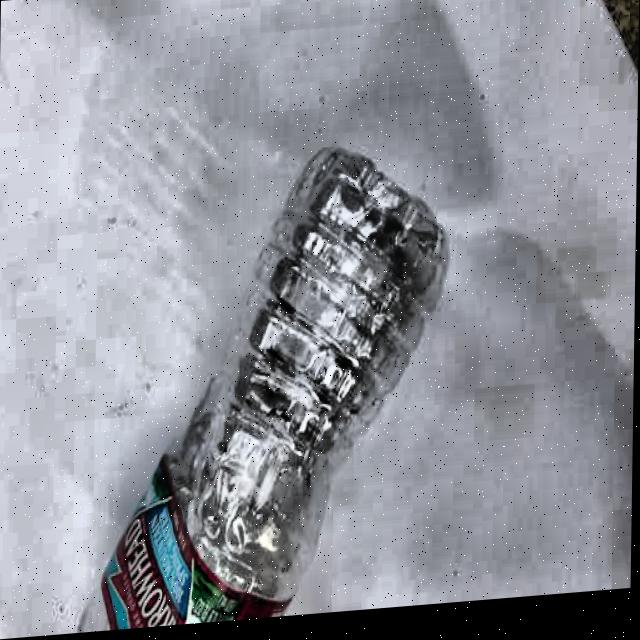plastic: (72, 137, 453, 633)
